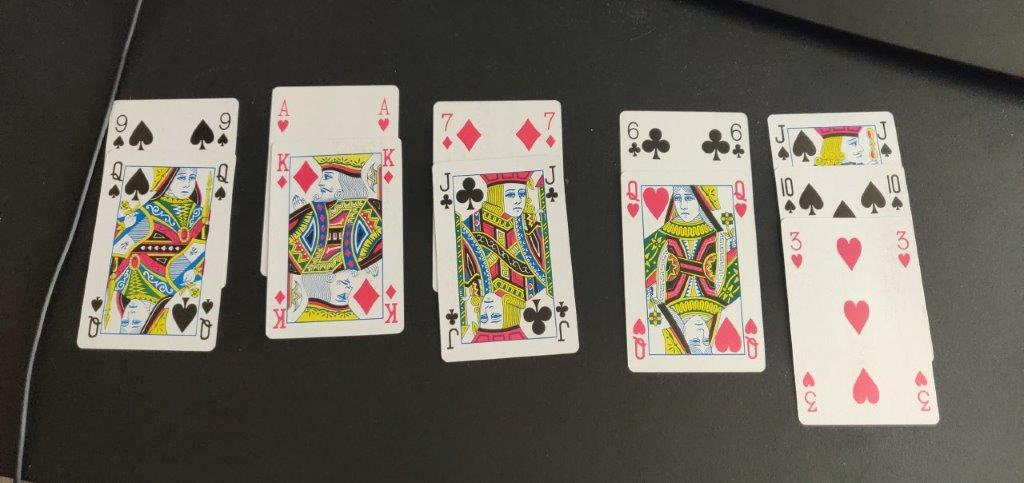10S: (882, 173, 907, 213), (776, 174, 799, 217)
3H: (892, 228, 916, 276), (785, 228, 808, 270)
6C: (727, 121, 748, 162), (624, 119, 644, 161)
7D: (541, 109, 561, 150), (436, 110, 456, 150)
9S: (214, 110, 235, 149), (109, 112, 129, 150)
AH: (370, 93, 394, 134), (268, 96, 293, 133)
JC: (435, 169, 457, 215), (541, 164, 562, 208)
JS: (873, 118, 896, 163), (770, 119, 791, 163)
KD: (378, 144, 399, 193), (274, 150, 294, 190)
QH: (730, 176, 750, 221), (622, 178, 643, 220)
QS: (212, 160, 233, 209), (103, 161, 128, 202)
